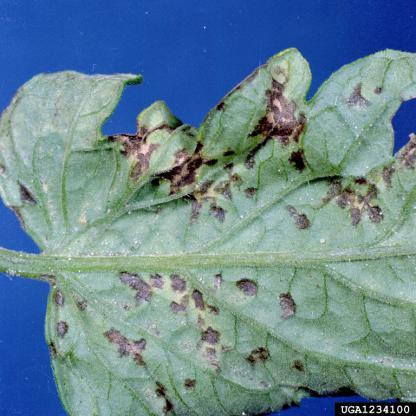Tomato leaf late blight: (4, 56, 416, 410)
